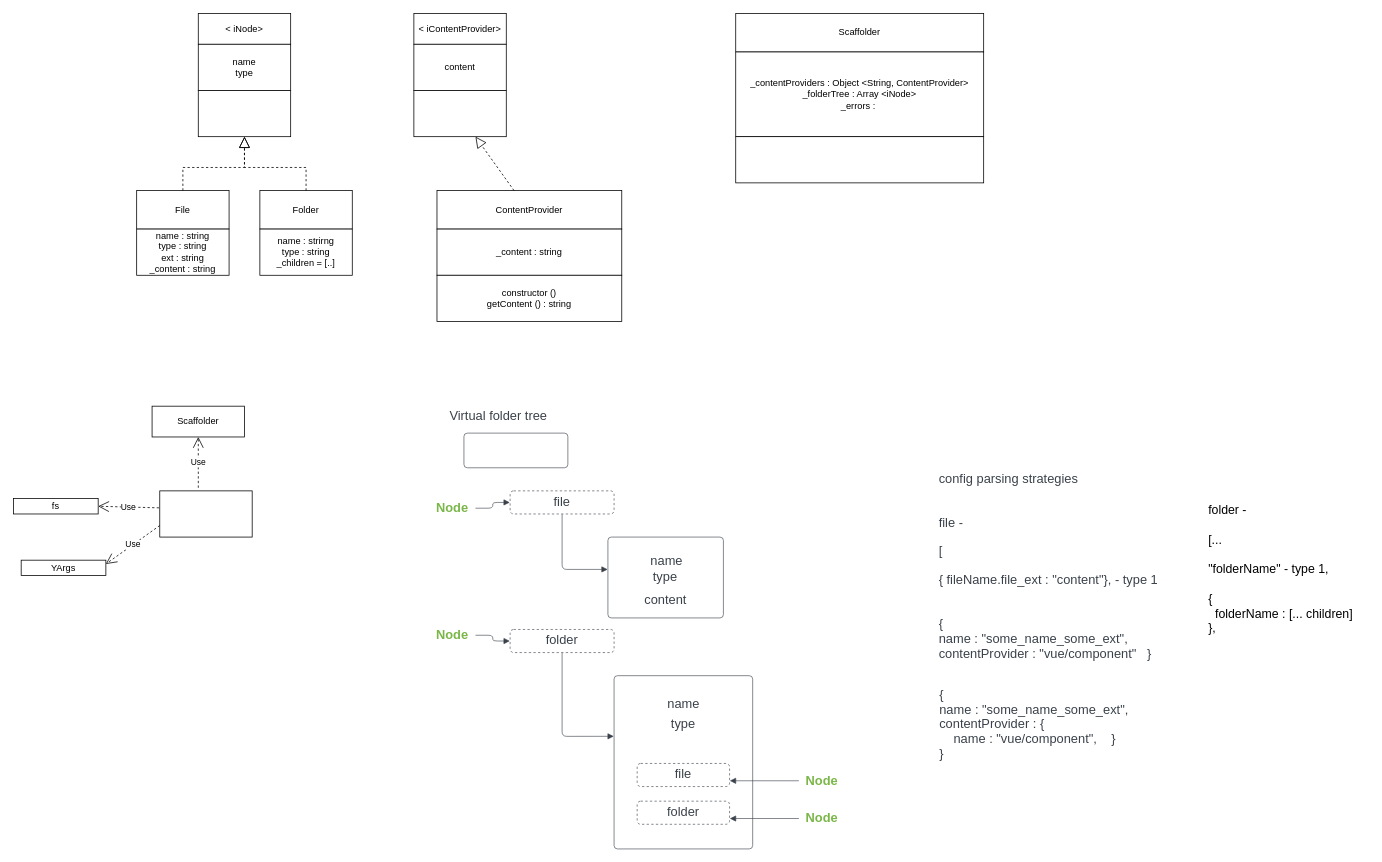
This 1382x862 diagram has some shape labels left out. Each missing label, with the centre of its shape:
"Children" belongs at (x=683, y=755).
"getContent()" belongs at (x=459, y=113).
"getName() getType ()" belongs at (x=244, y=113).
"Index.js" belongs at (x=205, y=513).
"init() : void getFolderTree () : Array <iNode>" belongs at (x=859, y=159).
"Nodes" belongs at (x=515, y=450).
